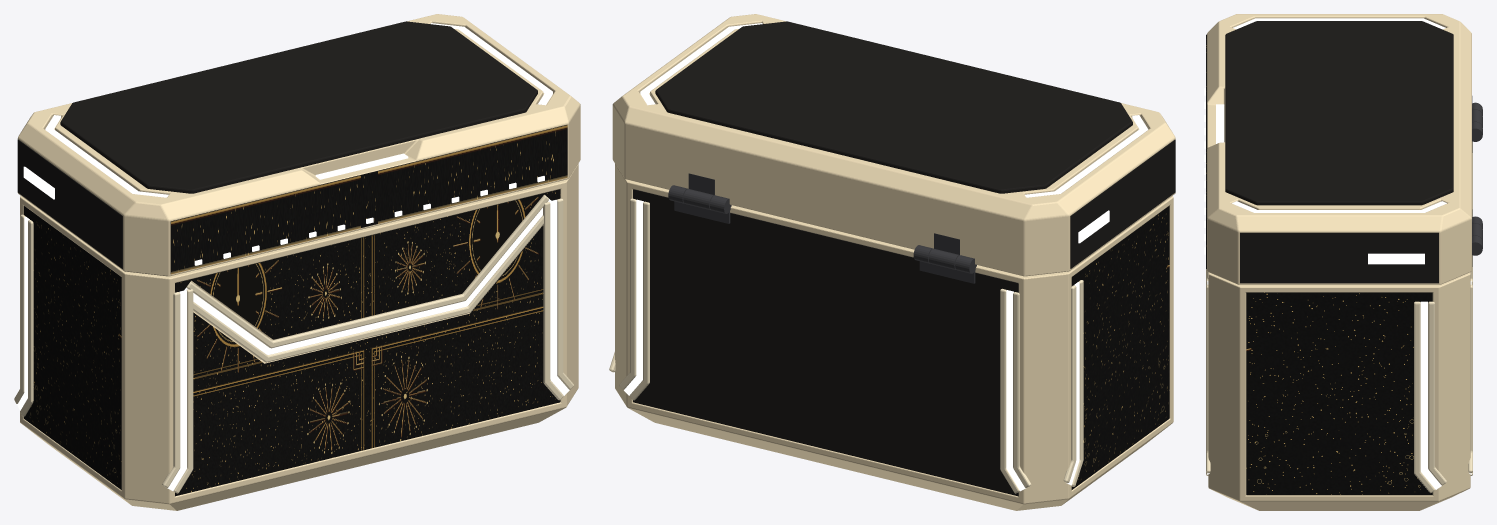
Rendered from nye.glb.
The picture shows the model from 3 angles, left to right: view 1: azimuth 30°, elevation 25°; view 2: azimuth 150°, elevation 25°; view 3: azimuth 270°, elevation 25°; orthographic projection. The views are drawn at different scales.
Parts seen in each view (by area): view 1: PlateFB, LidTopPanel, BodyCore, LidBand, LidFrontPlate, PlateSide, LidSidePlate, Rail_5, Rail_4, LedPath_3, Rail_16, LedPath_15 (+9 smaller); view 2: PlateFB.001, LidTopPanel, LidBand, BodyCore, PlateSide, LidSidePlate, Rail_10, Rail_20, LedPath_9, LedPath_18, Rail_11, Rail_19 (+5 smaller); view 3: LidTopPanel, PlateSide.001, BodyCore, LidBand, LidSidePlate.001, LedPath_21, Rail_22, Rail_23, LedPath_27, LedPath_30, LedPath_26, Rail_17 (+2 smaller).
Part boxes in pixels (<box>): PlateFB: <box>175,189,560,496</box>; LidTopPanel: <box>60,21,537,193</box>; BodyCore: <box>20,163,578,510</box>; LidBand: <box>17,14,580,276</box>; LidFrontPlate: <box>170,125,567,274</box>; PlateSide: <box>23,206,121,489</box>; LidSidePlate: <box>17,139,122,268</box>; Rail_5: <box>186,195,548,348</box>; Rail_4: <box>193,215,543,362</box>; LedPath_3: <box>184,199,550,354</box>; Rail_16: <box>543,201,563,400</box>; LedPath_15: <box>549,199,569,395</box>; PlateFB.001: <box>633,189,1018,496</box>; LidTopPanel: <box>655,21,1132,193</box>; LidBand: <box>612,14,1175,276</box>; BodyCore: <box>615,164,1173,510</box>; PlateSide: <box>1071,205,1169,489</box>; LidSidePlate: <box>1070,139,1175,268</box>; Rail_10: <box>1000,288,1019,493</box>; Rail_20: <box>629,201,649,400</box>; LedPath_9: <box>1006,290,1025,491</box>; LedPath_18: <box>624,199,643,395</box>; Rail_11: <box>1013,292,1031,487</box>; Rail_19: <box>619,198,636,389</box>; LidTopPanel: <box>1225,21,1453,205</box>; PlateSide.001: <box>1246,292,1432,495</box>; BodyCore: <box>1208,272,1470,510</box>; LidBand: <box>1207,14,1471,284</box>; LidSidePlate.001: <box>1240,232,1438,283</box>; LedPath_21: <box>1420,301,1441,489</box>; Rail_22: <box>1414,301,1435,493</box>; Rail_23: <box>1428,301,1446,485</box>; LedPath_27: <box>1232,201,1446,212</box>; LedPath_30: <box>1368,253,1424,264</box>; LedPath_26: <box>1233,18,1445,29</box>; Rail_17: <box>1206,284,1210,473</box>.
Size of the model in its own units: 1.78 by 1.17 by 0.978.
Materials: 11 (3 with a texture image).
